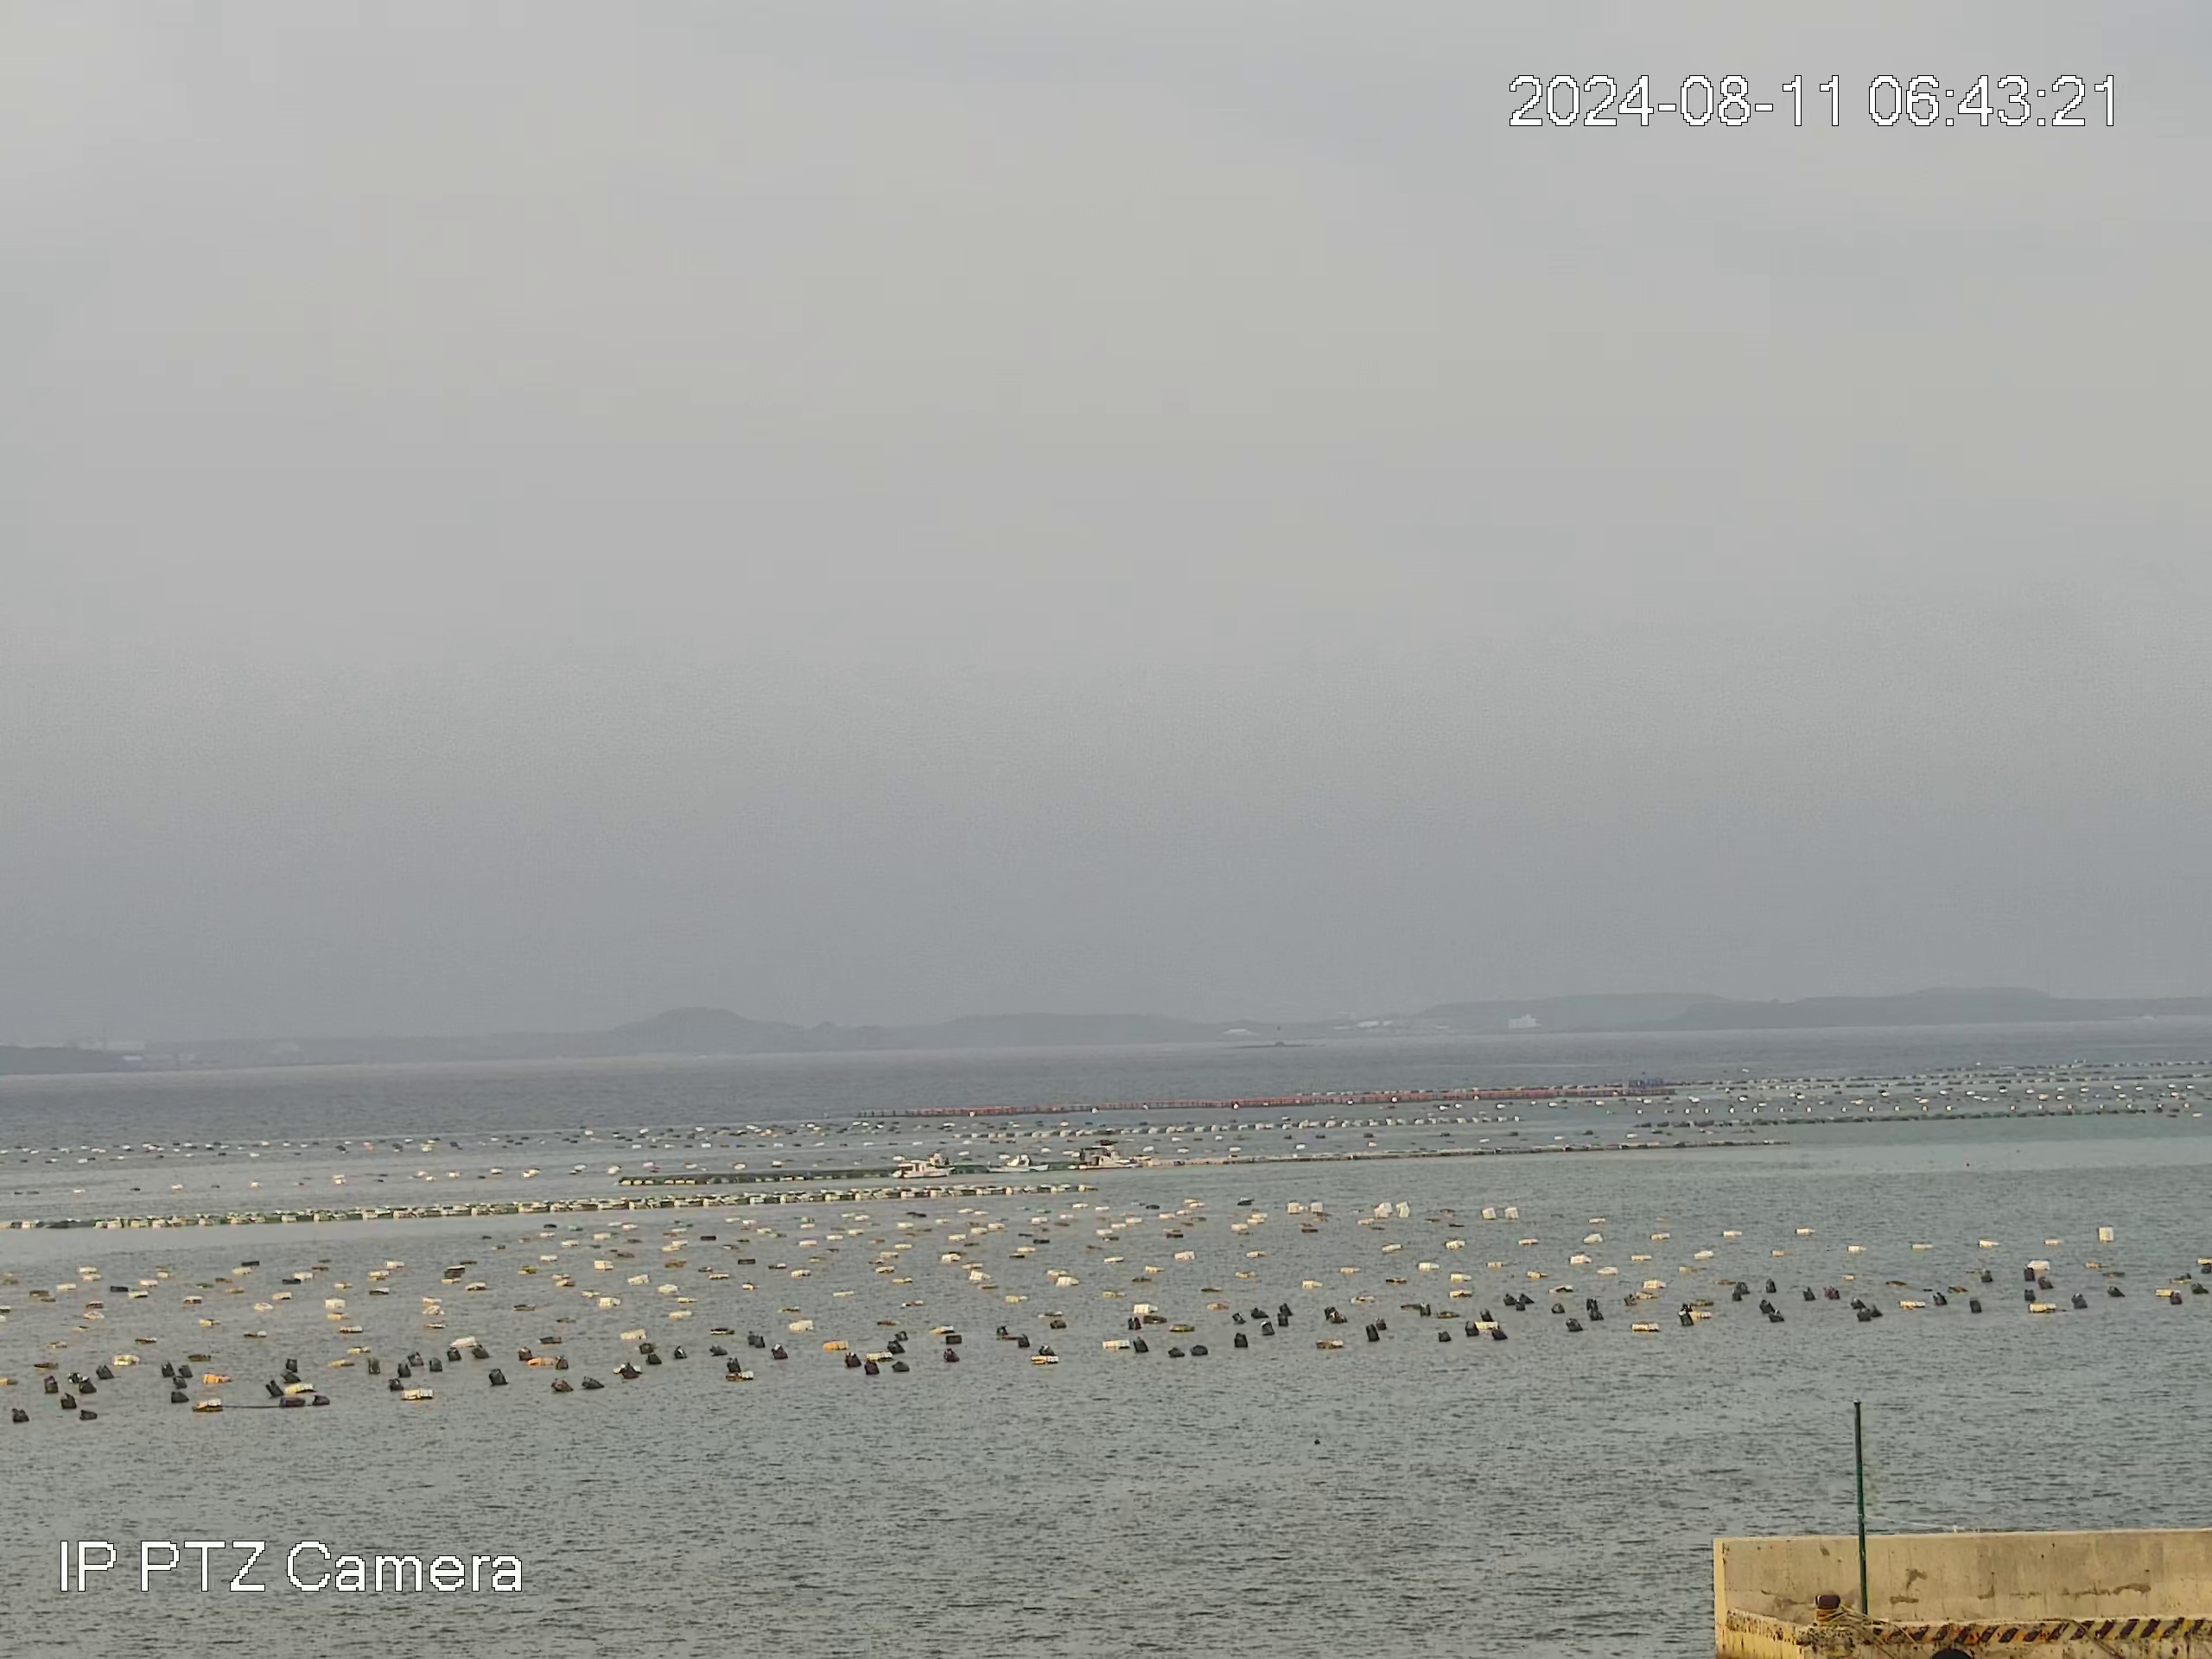boat: (888, 1150, 954, 1180), (984, 1152, 1052, 1173), (1064, 1152, 1120, 1171)
